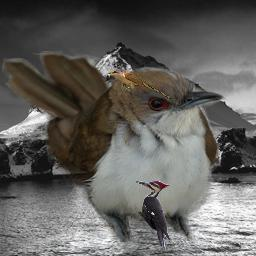Cuckoo: (2, 51, 227, 252), (106, 70, 172, 99)
Woodpecker: (135, 181, 171, 249)
